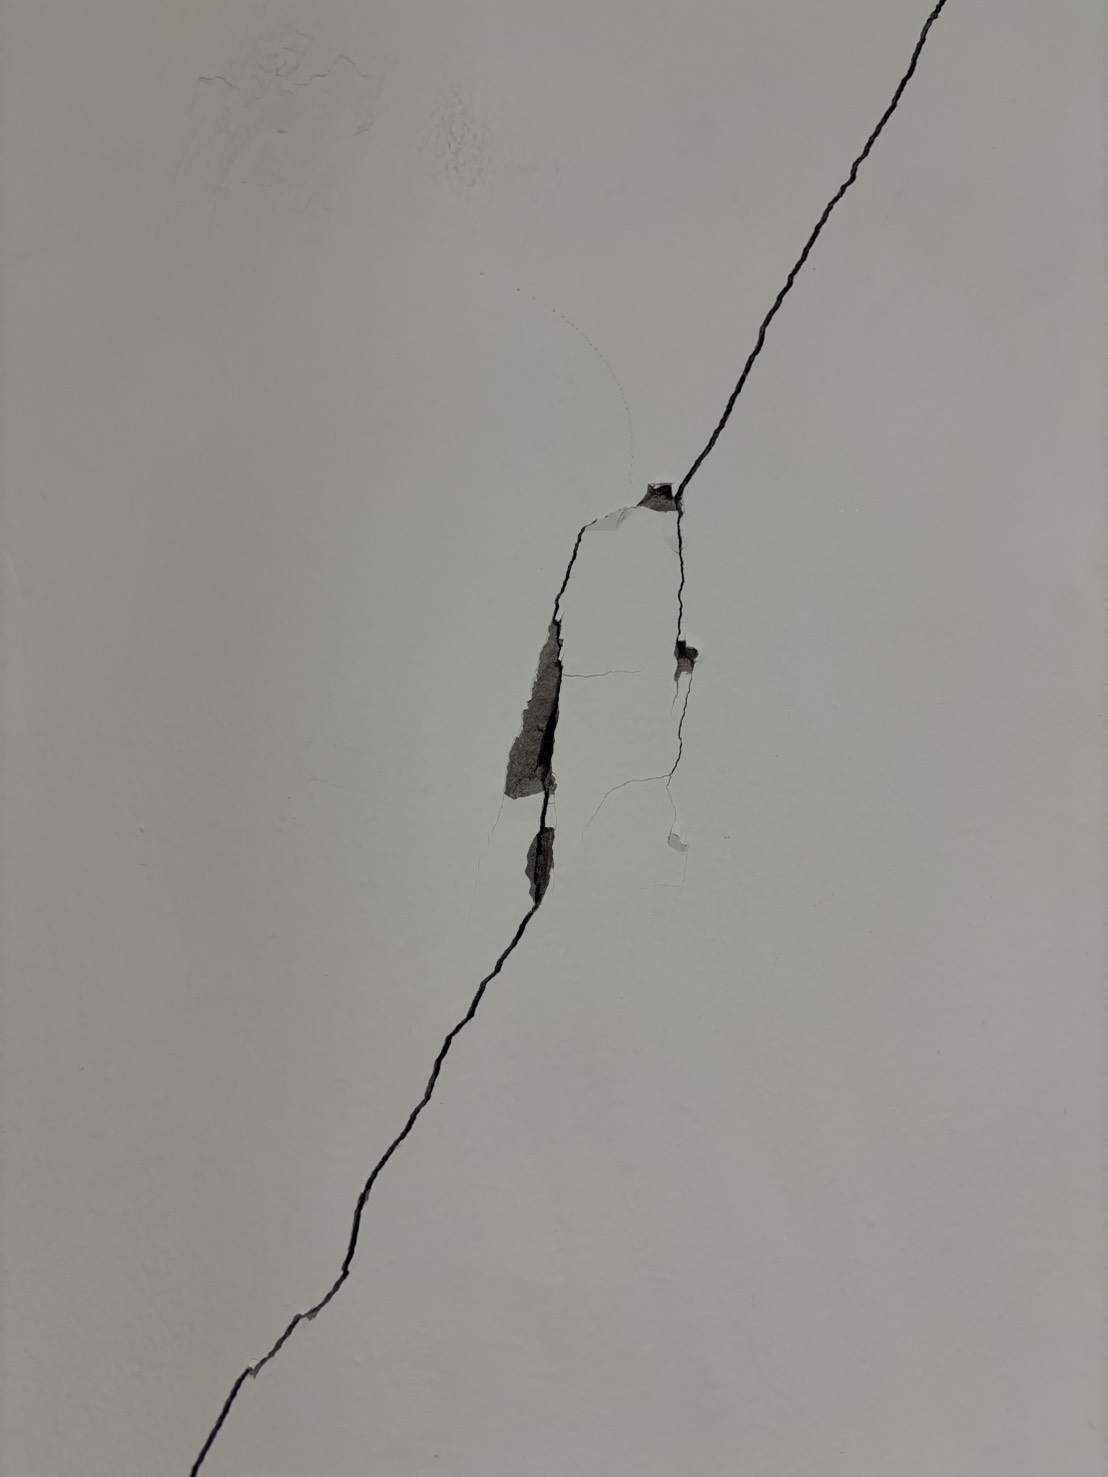Medium: (144, 406, 855, 1453)
